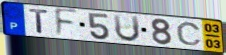5: (87, 12, 111, 41)
8: (150, 18, 174, 46)
C: (175, 21, 203, 47)
F: (54, 7, 80, 39)
T: (28, 8, 50, 35)
U: (112, 14, 142, 43)
